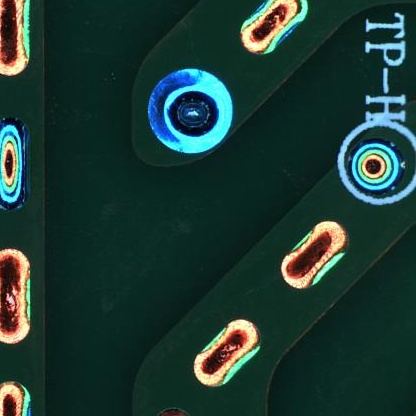spot: (147, 69, 234, 155), (346, 140, 405, 190)
